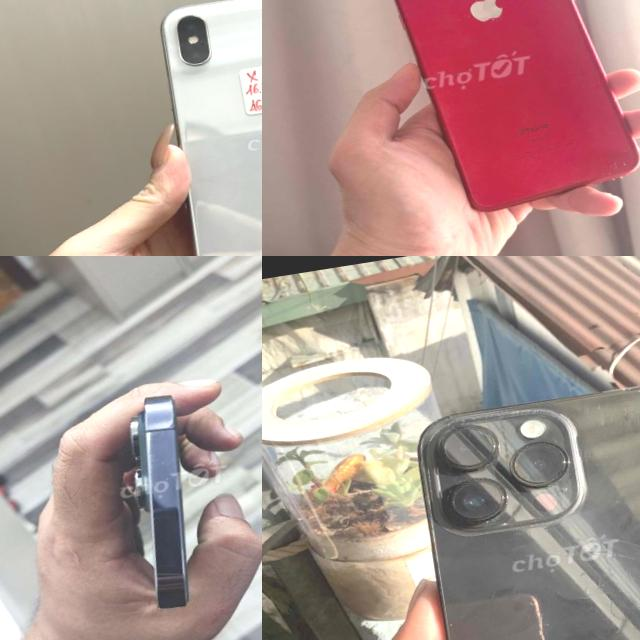gen_14: (377, 359, 640, 640), (96, 376, 224, 626)
gen_7_8: (384, 0, 640, 222)
gen_x_xs: (148, 0, 262, 256)
scratch: (434, 459, 600, 552), (408, 384, 604, 448), (118, 426, 172, 594), (602, 369, 640, 478), (600, 156, 636, 180), (162, 410, 184, 441)
